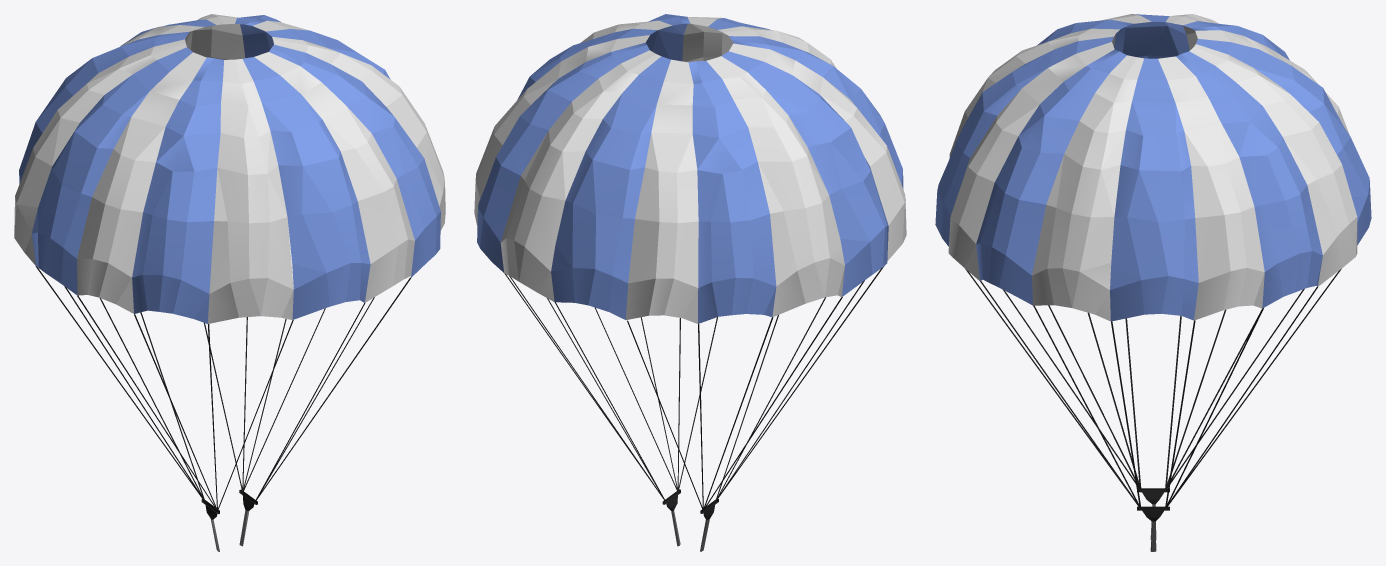
File: Parachute.glb
The picture shows the model from 3 angles, left to right: view 1: azimuth 30°, elevation 25°; view 2: azimuth 150°, elevation 25°; view 3: azimuth 270°, elevation 25°; orthographic projection.
Parts seen in each view (by area): view 1: Parachute, paracords, Harness; view 2: Parachute, paracords, Harness; view 3: Parachute, paracords, Harness.
Boxes of the visible parts, <box> form: Parachute: <box>14,14,445,323</box>; paracords: <box>35,266,410,510</box>; Harness: <box>205,493,254,551</box>; Parachute: <box>474,14,906,323</box>; paracords: <box>504,267,883,510</box>; Harness: <box>665,492,715,551</box>; Parachute: <box>935,14,1371,321</box>; paracords: <box>965,268,1341,508</box>; Harness: <box>1141,490,1165,551</box>.
Size of the model in its own units: 5.63 by 7.22 by 5.63.
